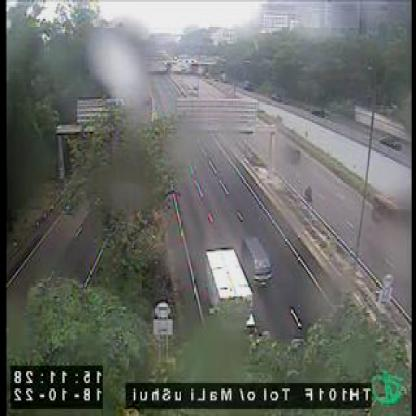Car: (240, 234, 272, 288)
Truck: (202, 248, 257, 340)
